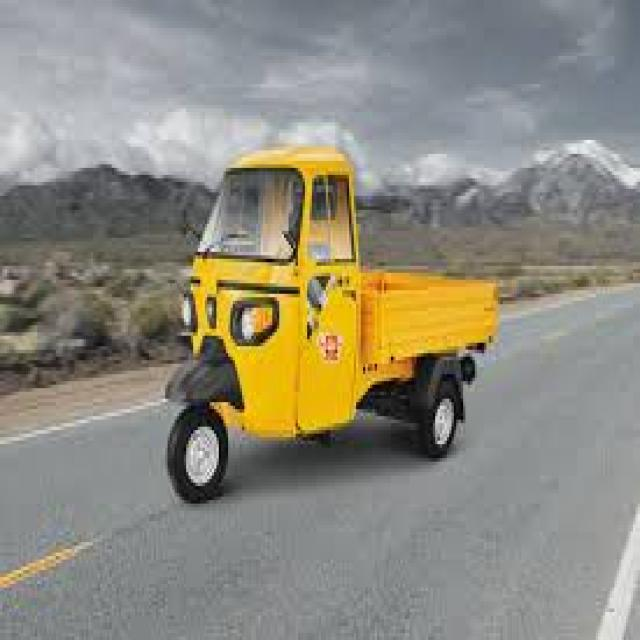Vehicles: (160, 109, 491, 527)
